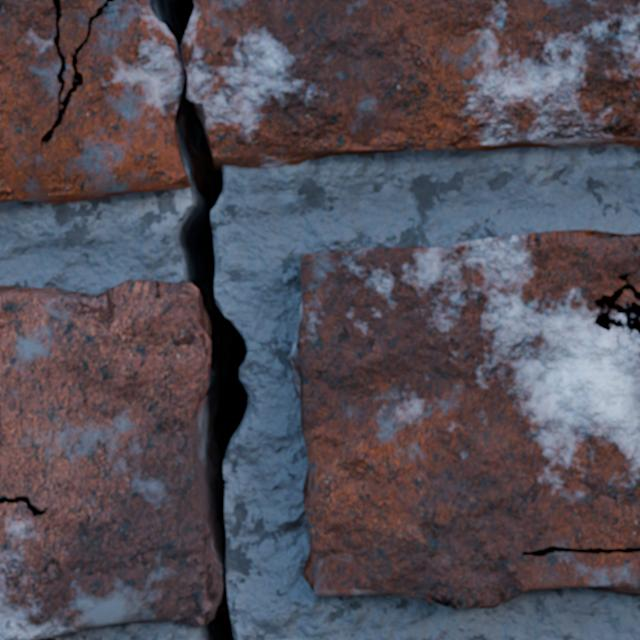broken_brick: (181, 0, 639, 168), (0, 0, 189, 203), (59, 0, 105, 100)
crack: (0, 0, 252, 639), (287, 230, 639, 609), (40, 0, 113, 148), (89, 189, 149, 193), (291, 151, 318, 153)
